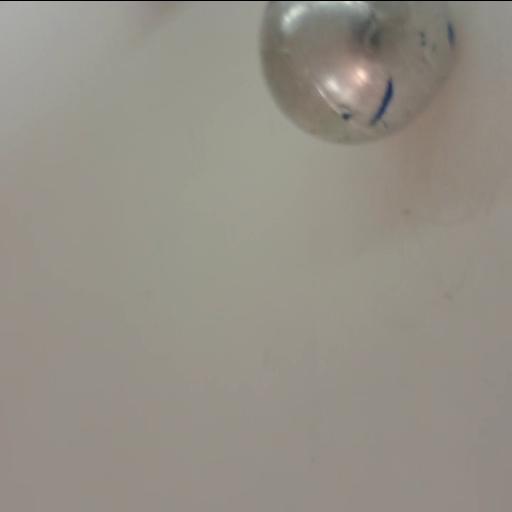alive: (256, 0, 463, 152)
